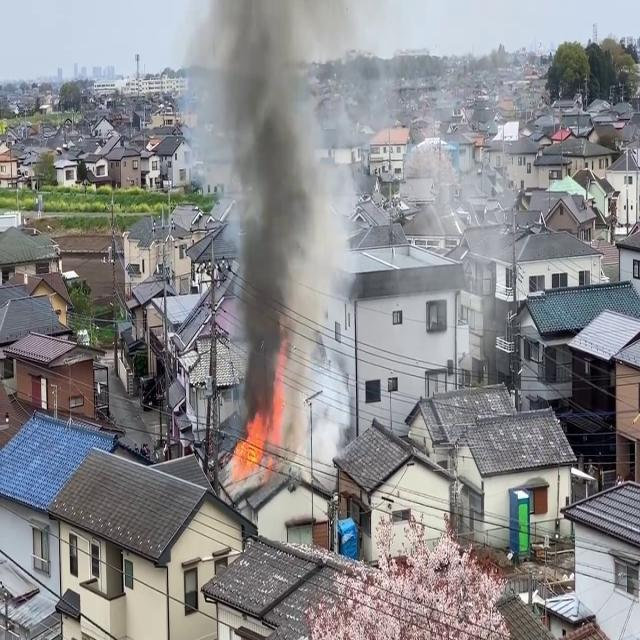Fire: (226, 409, 276, 479)
Smoke: (212, 1, 364, 457)
